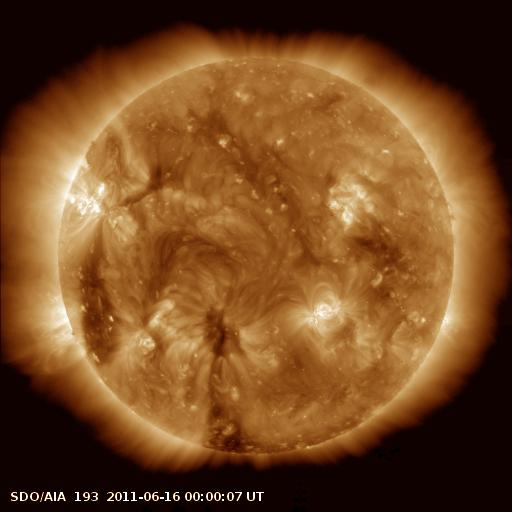coronal_hole: (72, 217, 121, 372), (202, 393, 269, 457)
